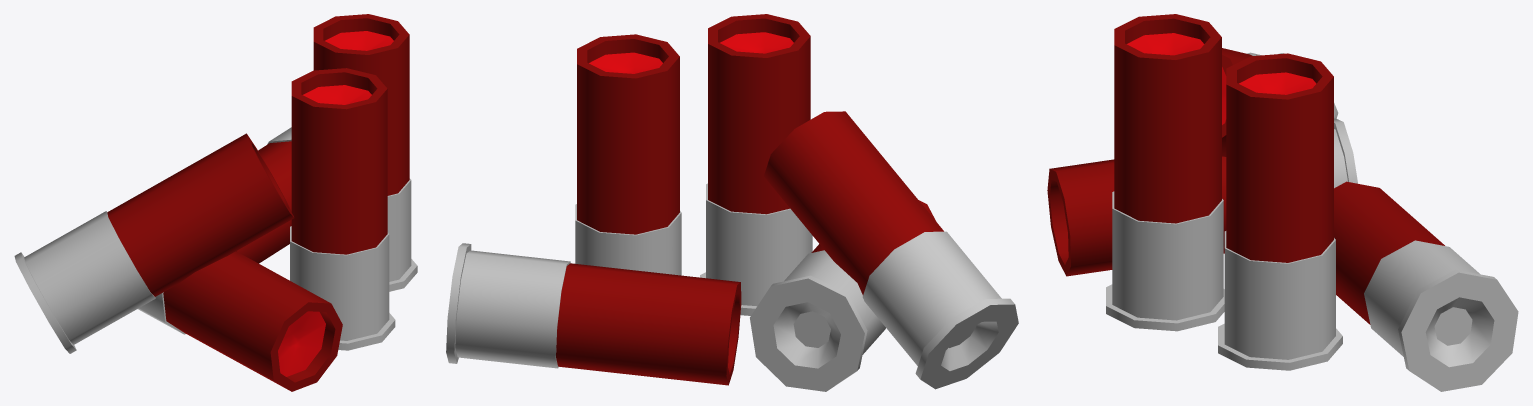
The model's file is SHOTGUNpickups.glb.
The picture shows the model from 3 angles, left to right: view 1: azimuth 30°, elevation 25°; view 2: azimuth 150°, elevation 25°; view 3: azimuth 270°, elevation 25°; orthographic projection. The views are drawn at different scales.
Parts seen in each view (by area): view 1: Cylinder.001; view 2: Cylinder.001; view 3: Cylinder.001.
Part boxes in pixels (bbox=[...]): Cylinder.001: bbox=[14, 14, 417, 391]; Cylinder.001: bbox=[446, 14, 1018, 391]; Cylinder.001: bbox=[1047, 14, 1518, 391].
Size of the model in its own units: 2.17 by 1.15 by 1.78.
